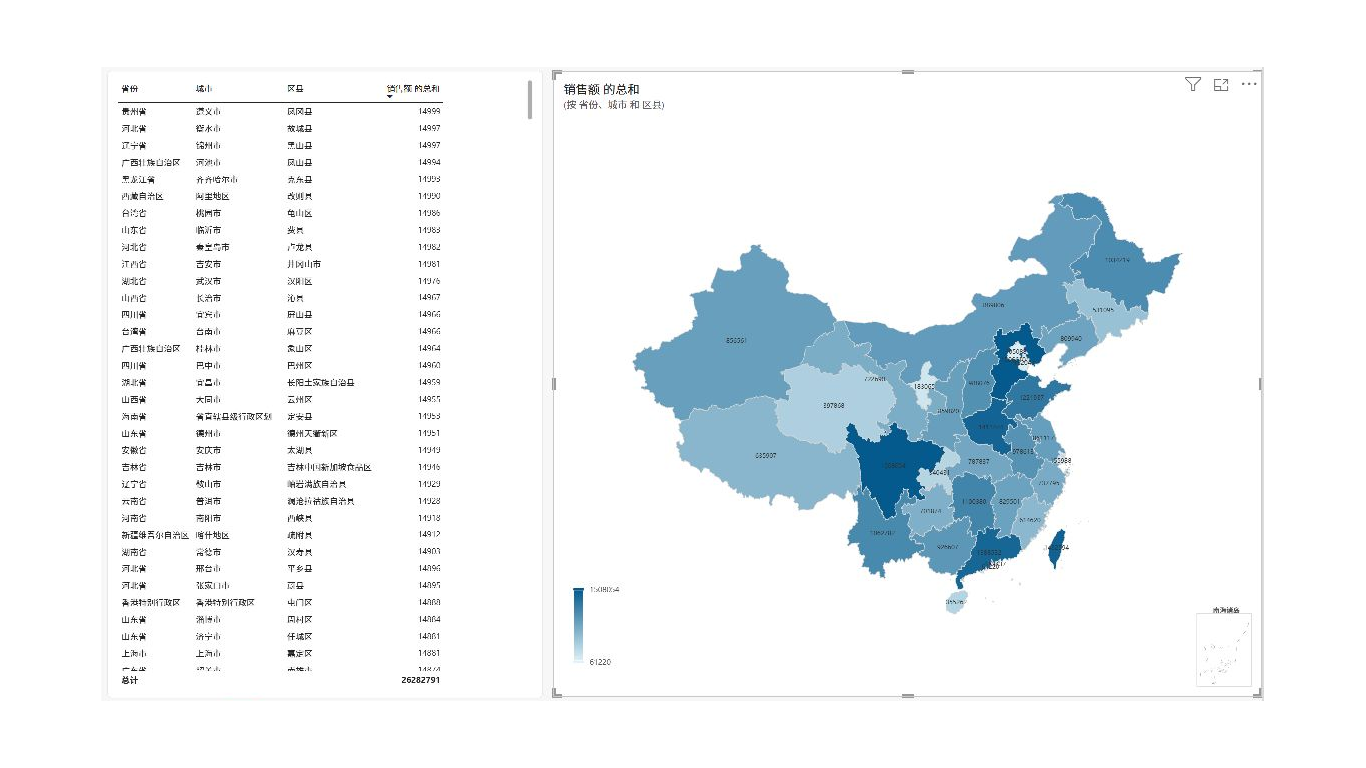

What the dashboard file says about the page in this screenshot:
{"tool":"powerbi","page":{"name":"第 3 页","canvas":[1920,1080],"ordinal":0},"visuals":[{"type":"chinaMapDrilldownV2F4A1C8D973E64B5AA27D1E6C80B42951","fields":{"province":["地图测试数据.省份"],"measure":["Sum(地图测试数据.销售额)"],"city":["地图测试数据.城市"],"district":["地图测试数据.区县"]},"box":[748,29.8,1172,1035.6],"z":1},{"type":"tableEx","fields":{"Values":["地图测试数据.省份","地图测试数据.城市","地图测试数据.区县","Sum(地图测试数据.销售额)"]},"box":[10.7,29.8,720.3,1037.8],"z":2}]}

Visuals, with their boxes in screenshot pixels (x1, y1, x2, y2), scaled from the page's 1920x1080 canvas onto the 1366x768 screenshot:
chinaMapDrilldownV2F4A1C8D973E64B5AA27D1E6C80B42951 - 地图测试数据.省份 x Sum(地图测试数据.销售额): l=532, t=21, r=1365, b=758
tableEx - 地图测试数据.省份 x 地图测试数据.城市: l=8, t=21, r=520, b=759
